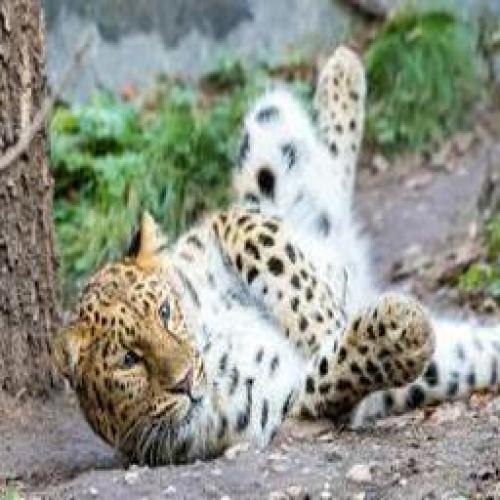amur_leopard-endangered: (51, 42, 500, 469)
